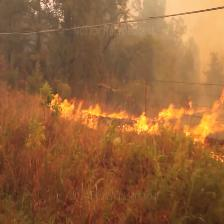fire: (46, 78, 224, 163)
nofire: (36, 143, 217, 224), (0, 128, 99, 224)
